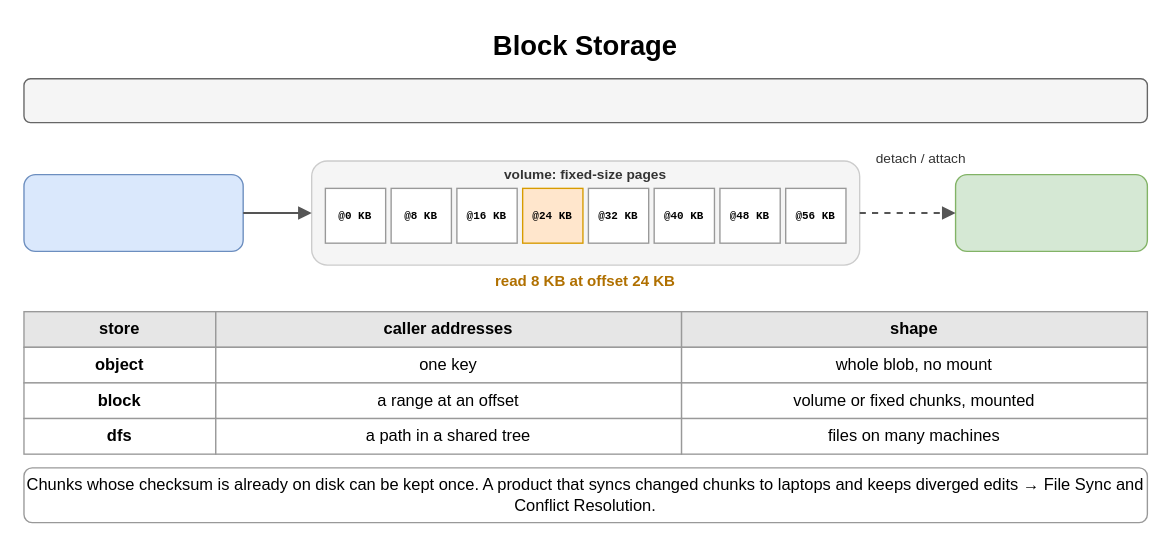
Some shapes in this 1171 by 547 pixel diagram are drawn without their labels. Here are the shapes that lost their labels. From the top down, the centre of each, then its label:
At [585,100]: "A volume the host treats as a disk; read a range at an offset".
At [133,212]: "desk host open-lot database".
At [1050,212]: "replacement host".
